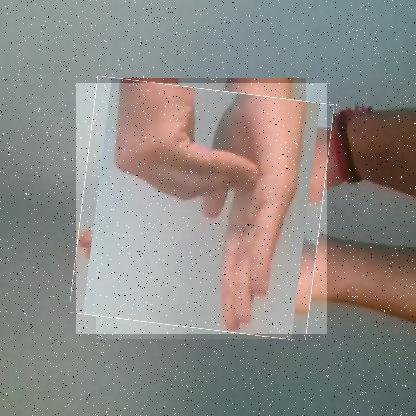Z: (75, 83, 327, 335)
